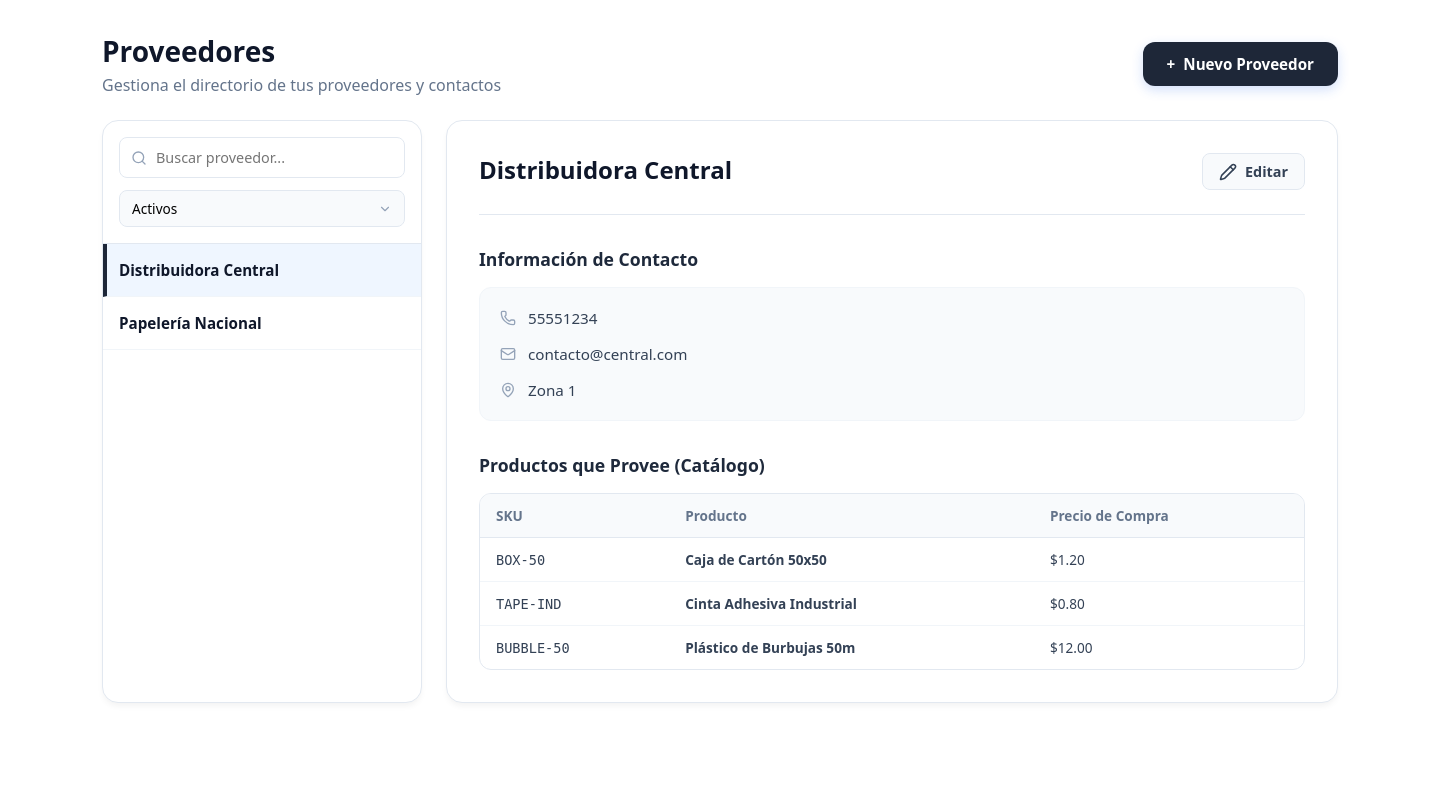
Test: SuppliersView › permite seleccionar otro proveedor
What coordinates should you click on to do the following:
click the list item with class "supplier-item" showing "Papelería Nacional"
I would click on:
 (262, 324)
Its box is [103, 297, 421, 350].
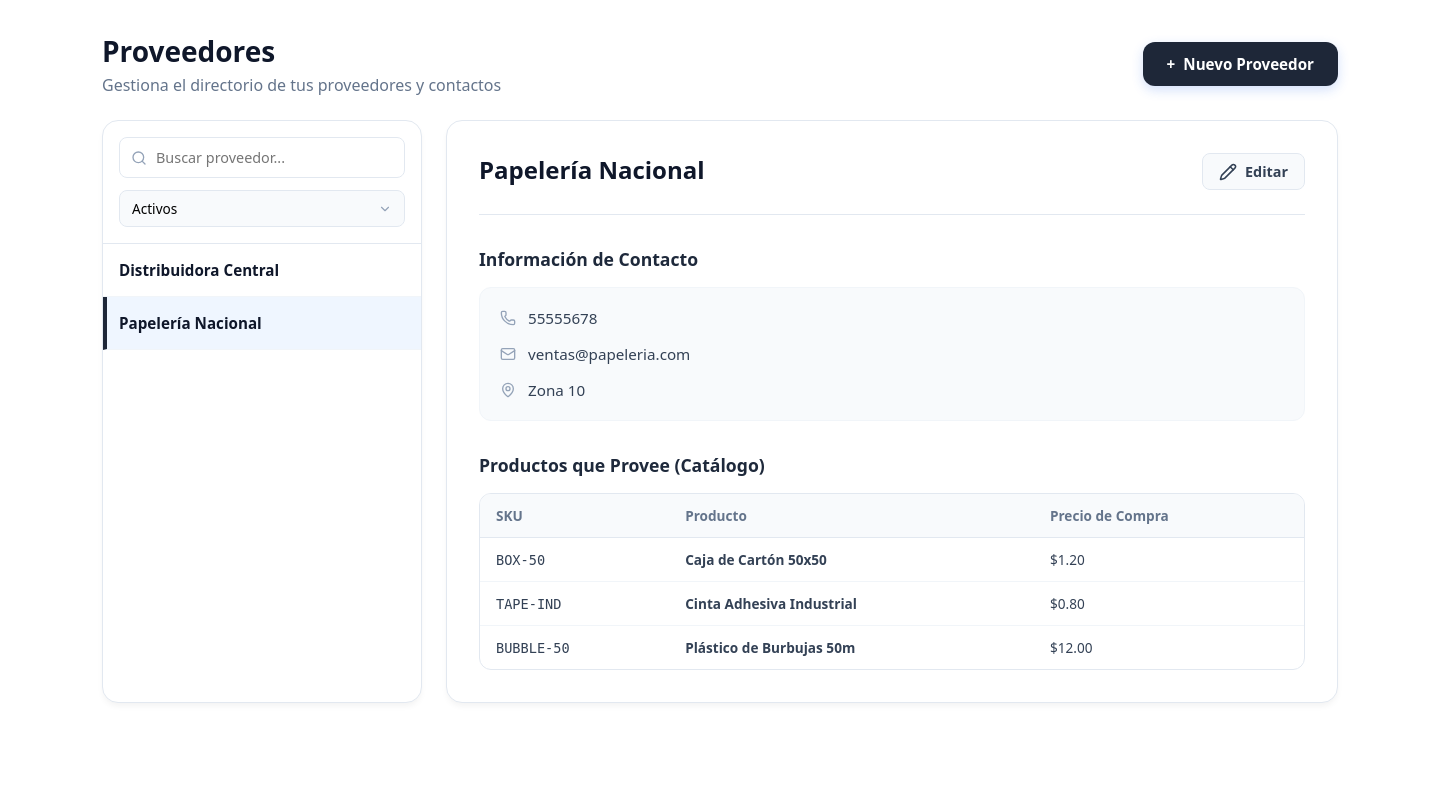
Expected: the text "Papelería Nacional" is shown, [119, 313, 262, 333]
Now the text "55555678" is shown, box [528, 308, 598, 328]
Now the text "ventas@papeleria.com" is shown, box [528, 344, 690, 364]
